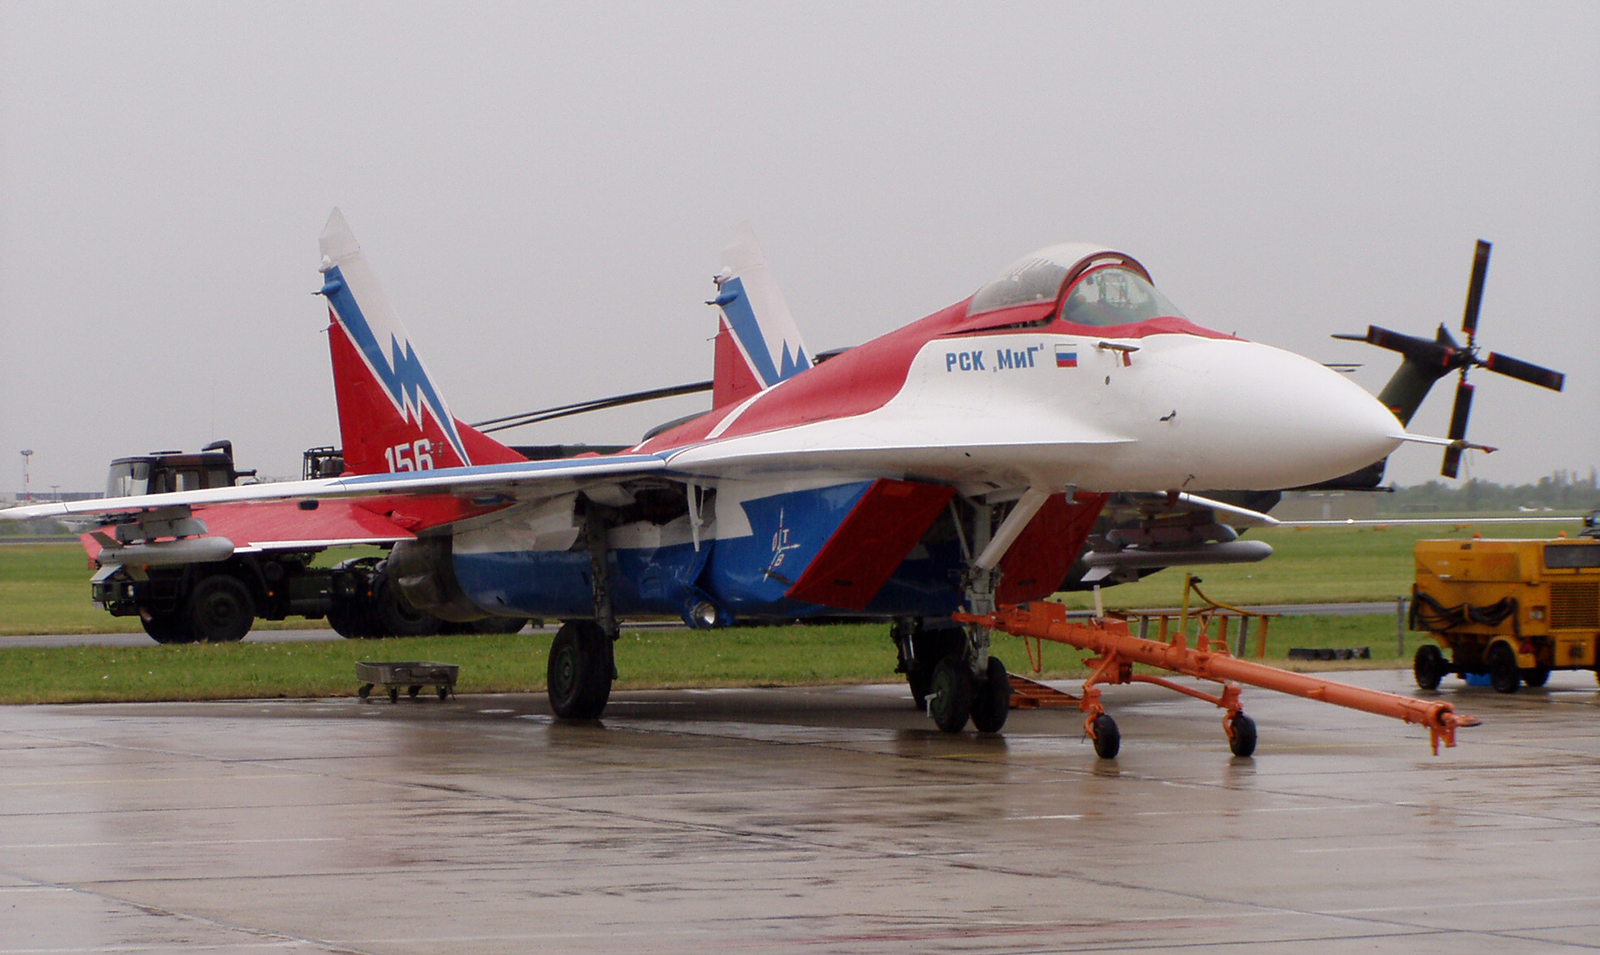Mig-29: (48, 161, 1411, 791)
